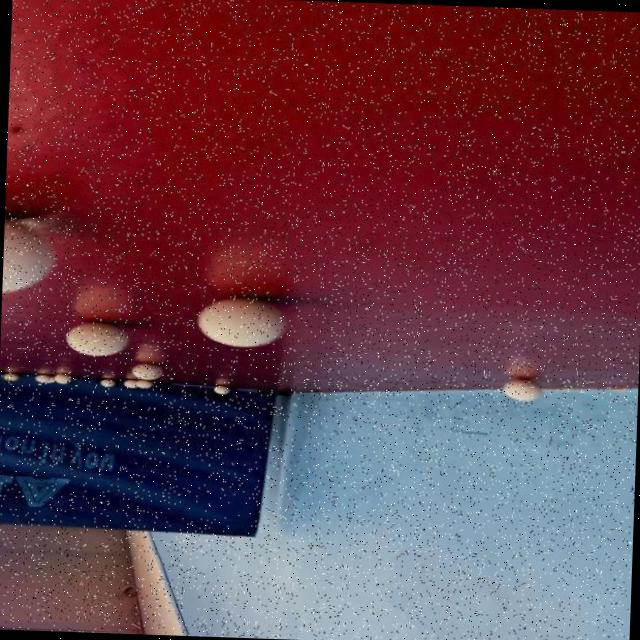ping-pong-ball: (182, 282, 304, 358), (0, 209, 60, 297), (42, 313, 146, 361), (488, 372, 558, 408), (120, 359, 170, 383), (41, 366, 84, 387), (198, 381, 242, 398), (132, 374, 152, 396), (91, 374, 120, 389), (0, 364, 18, 385), (120, 376, 138, 394)
